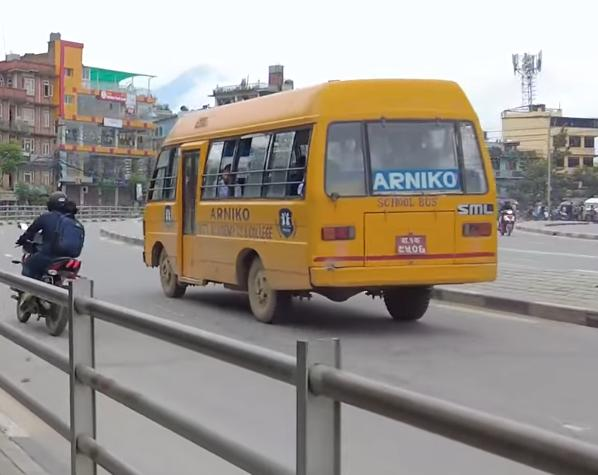bike: (10, 218, 83, 339)
school_bus: (133, 71, 501, 333)
